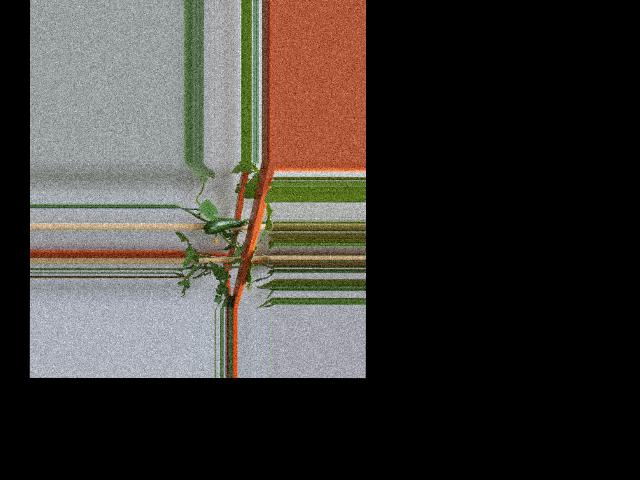cucumber: (200, 217, 242, 234)
